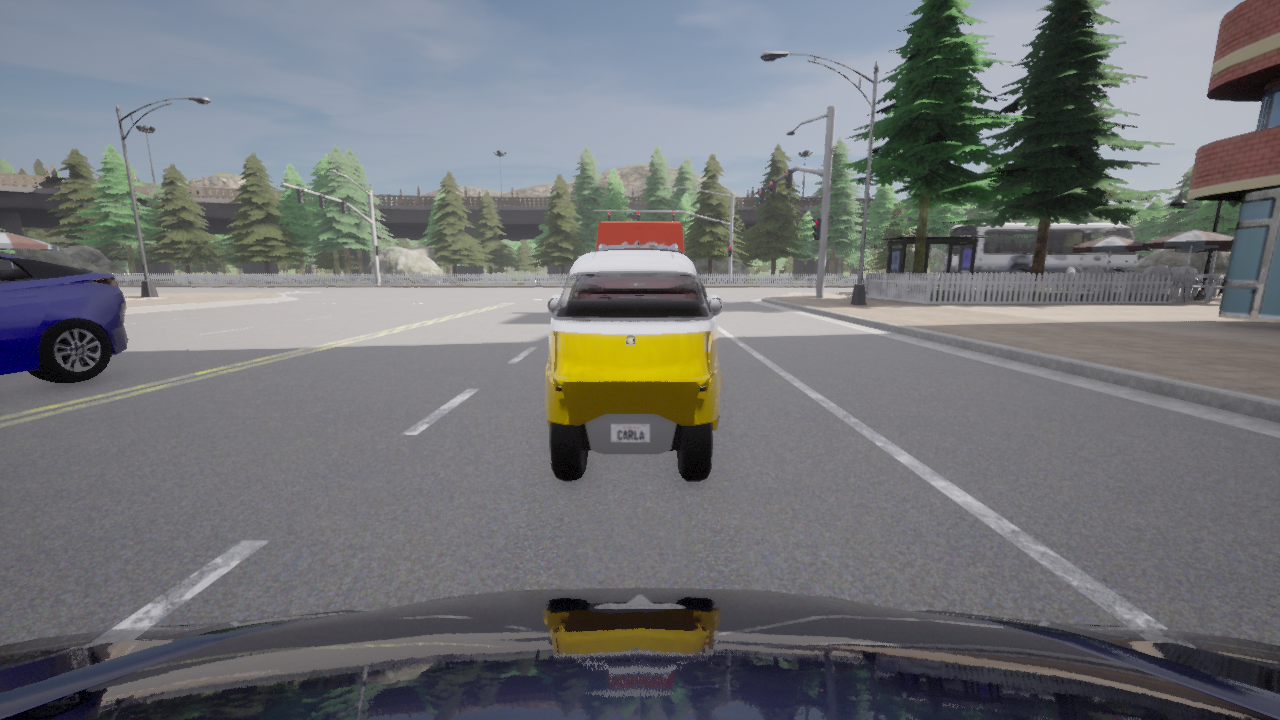cyclist: (0, 588, 1279, 719), (545, 250, 723, 480), (947, 222, 1150, 291), (593, 240, 706, 296), (596, 221, 683, 252)
